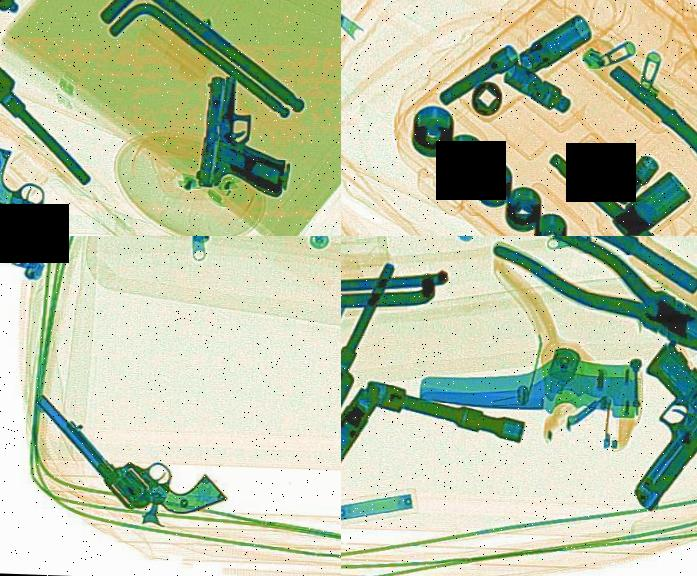Gun: (30, 359, 235, 534), (563, 327, 697, 512), (0, 138, 193, 236), (197, 72, 301, 198)
Pliers: (481, 236, 697, 377)
